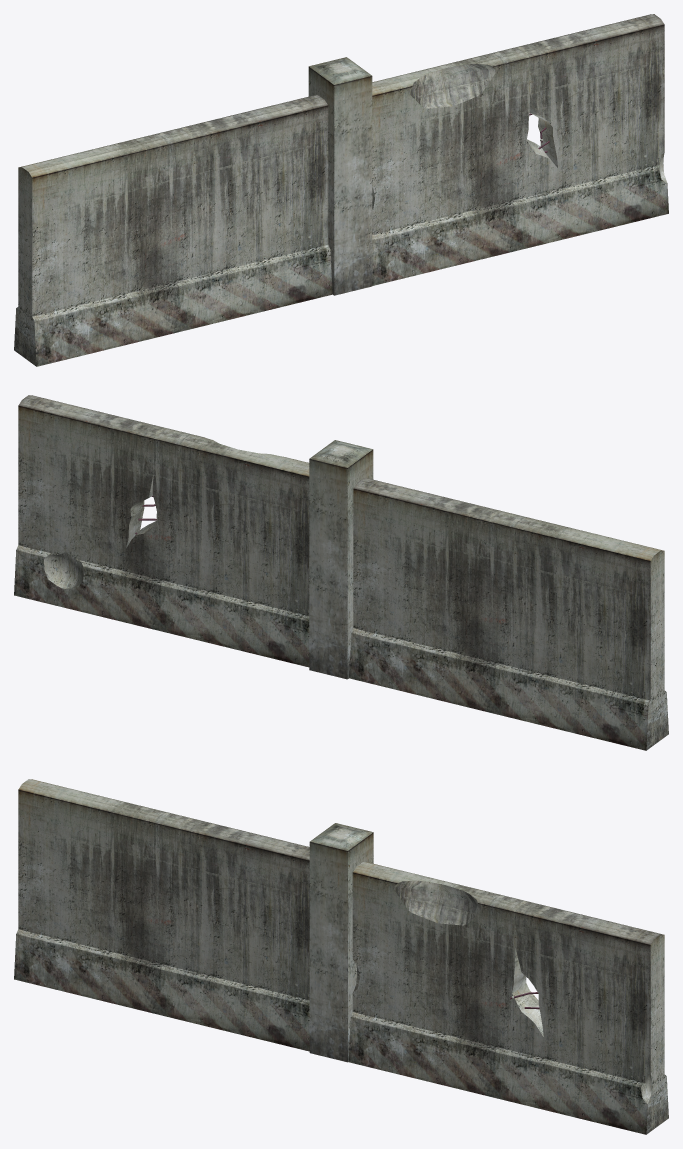
File: Concrete Wall.FBX
The picture shows the model from 3 angles, top to bottom: view 1: azimuth 30°, elevation 25°; view 2: azimuth 150°, elevation 25°; view 3: azimuth 330°, elevation 25°; orthographic projection.
Visible parts, largest first — view 1: Concrete_wall_whole, Concrete_wall_broken, Concrete_wall_colones; view 2: Concrete_wall_whole, Concrete_wall_broken, Concrete_wall_colones; view 3: Concrete_wall_broken, Concrete_wall_whole, Concrete_wall_colones.
Part boxes in pixels (x1,y1,x2,y2): Concrete_wall_whole: (14,95,332,366); Concrete_wall_broken: (372,14,668,285); Concrete_wall_colones: (308,57,372,295); Concrete_wall_whole: (349,478,668,750); Concrete_wall_broken: (14,395,309,667); Concrete_wall_colones: (309,440,373,679); Concrete_wall_broken: (348,862,668,1134); Concrete_wall_whole: (14,779,309,1051); Concrete_wall_colones: (309,823,373,1062).
Size of the model in its own units: 1142 by 94.33 by 369.
